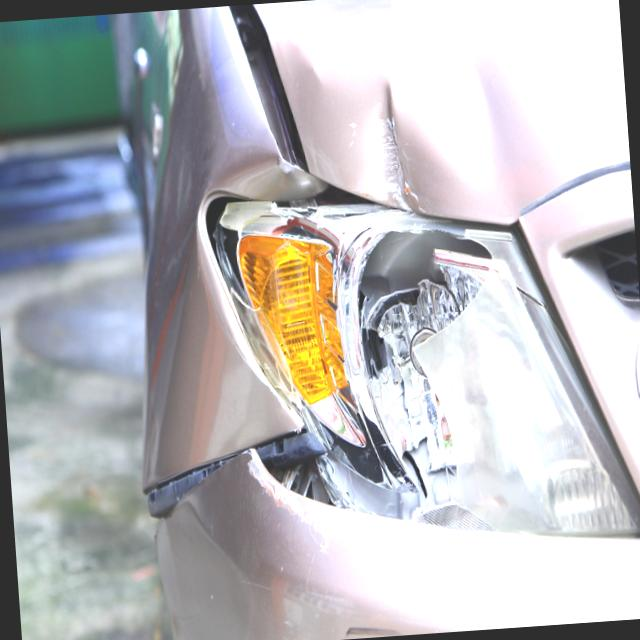Cabossage: (259, 3, 557, 217)
Phare abime: (218, 200, 513, 540)
Rayure: (366, 86, 414, 200)
